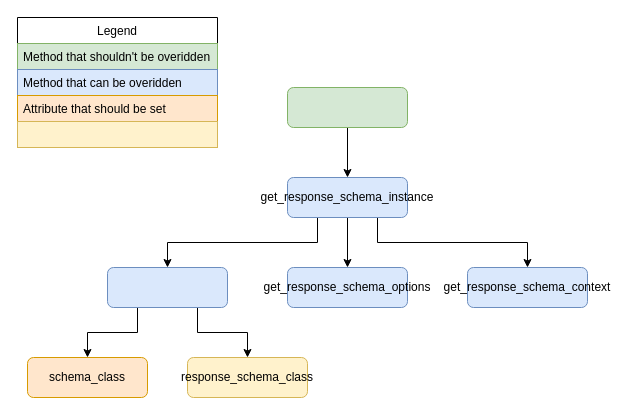
This 628x415 diagram has some shape labels left out. Here are the shapes that lost their labels. From the top down, the centre of each, then its label:
At (x=347, y=107): "dispatch_request".
At (x=117, y=134): "Attribute that can be set".
At (x=167, y=287): "get_response_schema_class".
